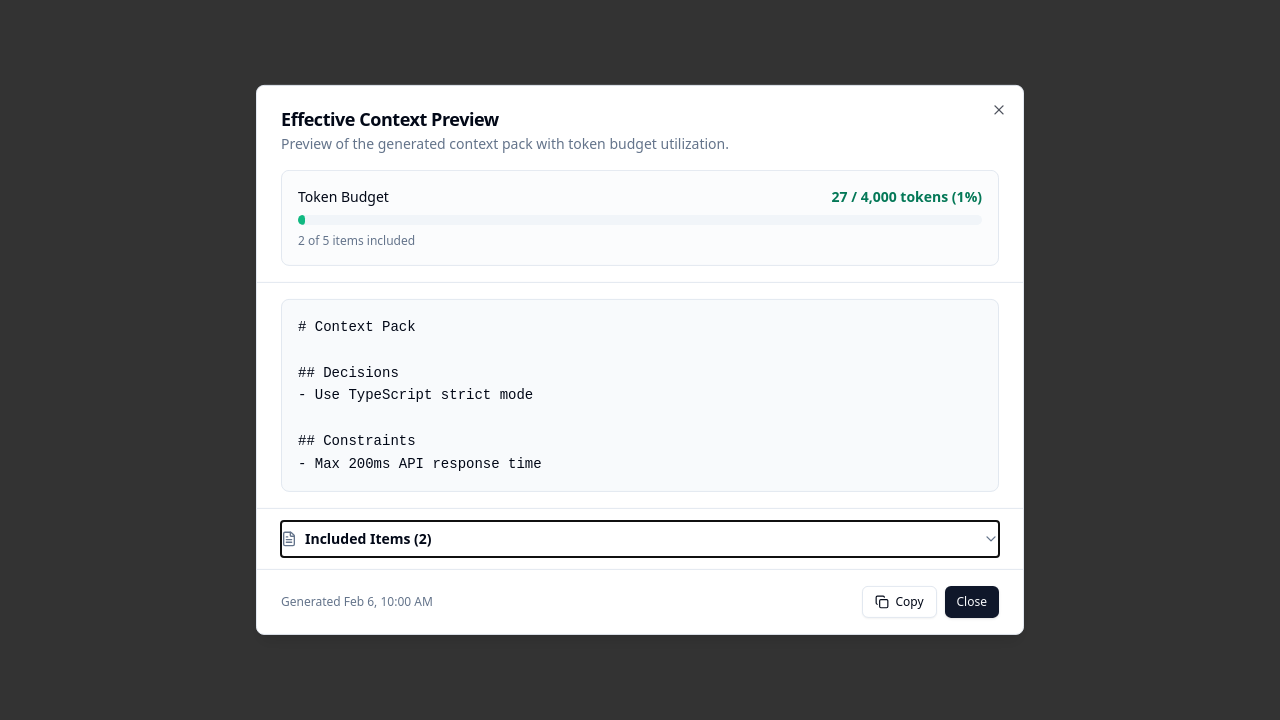
Scenario: EffectiveContextPreview › Copy to Clipboard › shows "Copied" label after copying
This screenshot has width=1280, height=720.
Click the button with aria-label "copy context pack to clipboard".
click(899, 602)  # box [862,586,936,618]
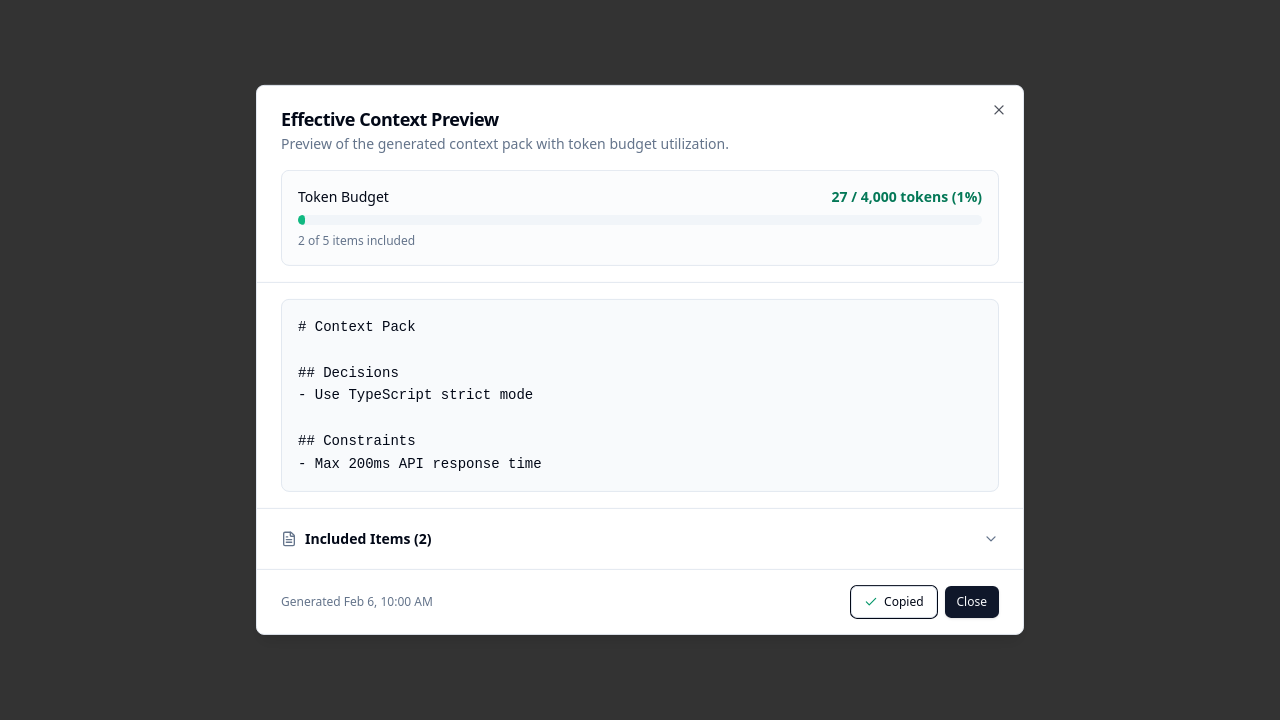
Now the button "Copied" is shown, box [851,586,937,618]
